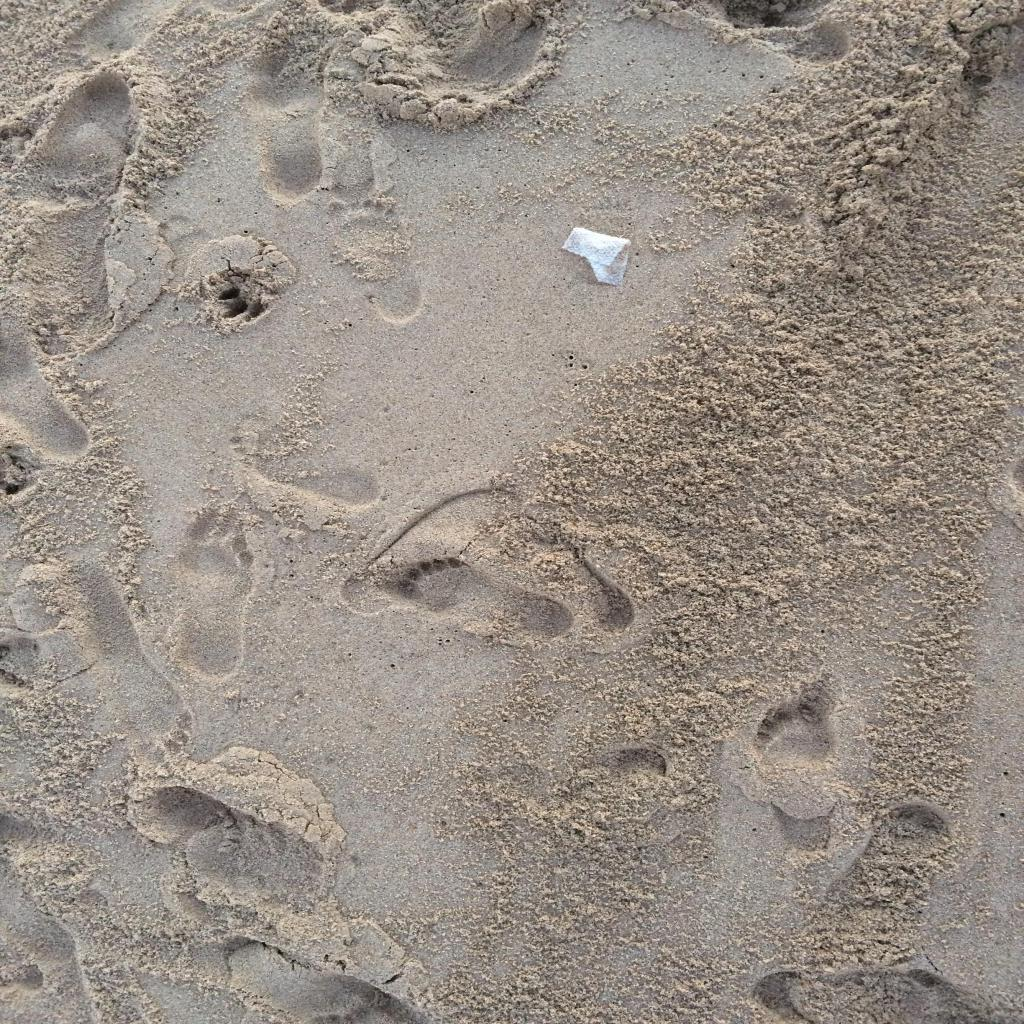Plastic film: (562, 228, 632, 286)
